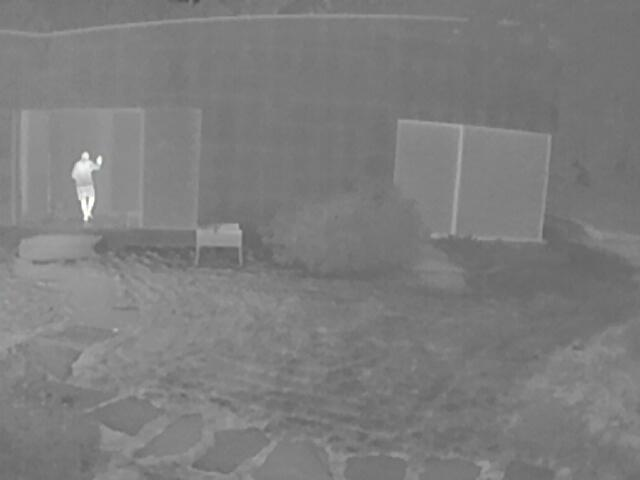person: (71, 152, 103, 222)
